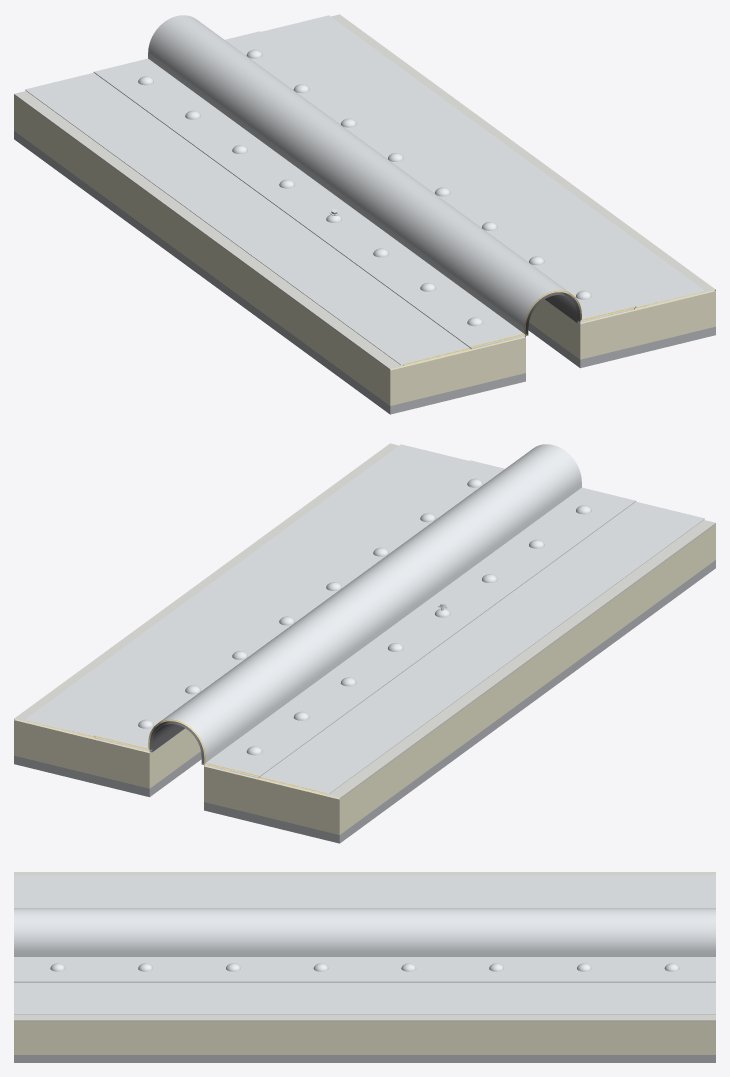
The model's file is expansion-joint-A-3-TYP.glb.
3 renders of one model, top to bottom at view 1: azimuth 30°, elevation 25°; view 2: azimuth 150°, elevation 25°; view 3: azimuth 270°, elevation 25°, orthographic. The views are drawn at different scales.
Visible parts, largest first — view 1: topcoat__topcoat_profile, existing__insulation_w, existing__insulation_e, existing__membrane_w, existing__steel_deck_w, existing__membrane_e, topcoat__topcoat_domes, existing__steel_deck_e, existing__bellow; view 2: topcoat__topcoat_profile, existing__insulation_w, existing__insulation_e, existing__membrane_w, existing__steel_deck_w, existing__membrane_e, topcoat__topcoat_domes, existing__steel_deck_e, existing__bellow; view 3: topcoat__topcoat_profile, existing__insulation_e, existing__steel_deck_e, existing__membrane_e, existing__membrane_w, topcoat__topcoat_domes.
Part boxes in pixels (bbox=[...]): topcoat__topcoat_profile: bbox=[25, 15, 704, 365]; existing__insulation_w: bbox=[14, 95, 525, 405]; existing__insulation_e: bbox=[529, 290, 715, 359]; existing__membrane_w: bbox=[14, 91, 525, 370]; existing__steel_deck_w: bbox=[14, 131, 525, 414]; existing__membrane_e: bbox=[331, 14, 715, 323]; topcoat__topcoat_domes: bbox=[138, 49, 591, 326]; existing__steel_deck_e: bbox=[528, 322, 715, 368]; existing__bellow: bbox=[525, 292, 580, 335]; topcoat__topcoat_profile: bbox=[25, 444, 704, 794]; existing__insulation_w: bbox=[204, 524, 715, 834]; existing__insulation_e: bbox=[14, 719, 200, 788]; existing__membrane_w: bbox=[204, 520, 715, 799]; existing__steel_deck_w: bbox=[204, 560, 715, 843]; existing__membrane_e: bbox=[14, 443, 398, 752]; topcoat__topcoat_domes: bbox=[138, 478, 591, 755]; existing__steel_deck_e: bbox=[14, 751, 201, 797]; existing__bellow: bbox=[149, 721, 204, 764]; topcoat__topcoat_profile: bbox=[14, 875, 715, 1014]; existing__insulation_e: bbox=[14, 1021, 715, 1054]; existing__steel_deck_e: bbox=[14, 1055, 715, 1062]; existing__membrane_e: bbox=[14, 1014, 715, 1021]; existing__membrane_w: bbox=[14, 872, 715, 875]; topcoat__topcoat_domes: bbox=[50, 963, 679, 971].
Bounding box in the file's own units: 0.6096 × 0.1494 × 1.22.
